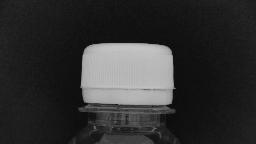Good Cap: (74, 38, 182, 118)
